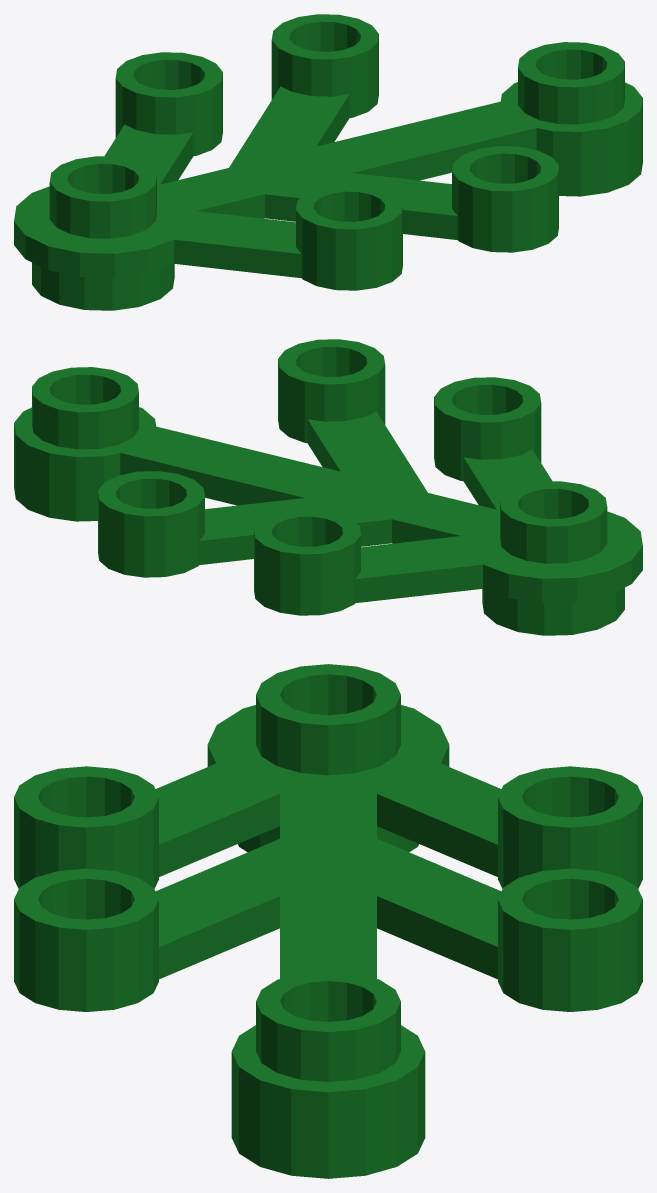
The model's file is mos.fbx.
The picture shows the model from 3 angles, top to bottom: view 1: azimuth 30°, elevation 25°; view 2: azimuth 150°, elevation 25°; view 3: azimuth 270°, elevation 25°; orthographic projection. The views are drawn at different scales.
Parts seen in each view (by area): view 1: Part.101; view 2: Part.101; view 3: Part.101.
Boxes of the visible parts, left/top/right/bottom form: Part.101: left=14, top=14, right=642, bottom=310; Part.101: left=14, top=339, right=642, bottom=635; Part.101: left=14, top=664, right=642, bottom=1178.
Bounding box in the file's own units: 156 × 24.9 × 104.
